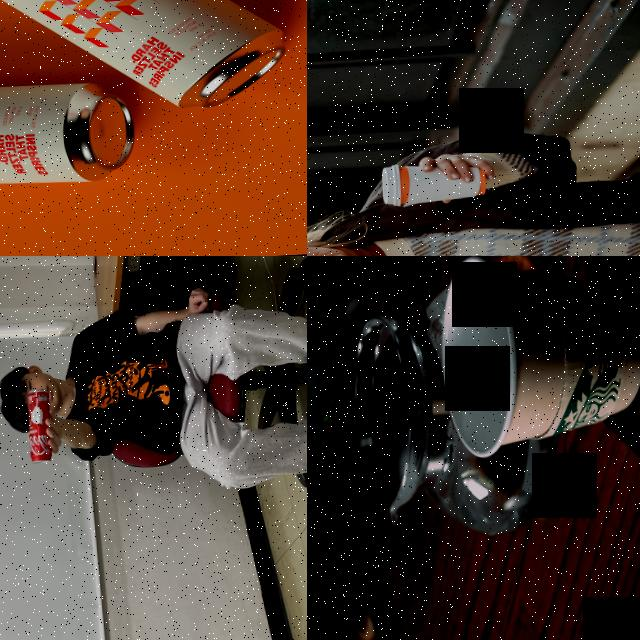can: (0, 0, 290, 120), (0, 77, 139, 197), (26, 388, 54, 462)
cup: (436, 256, 640, 461), (379, 158, 488, 208)
